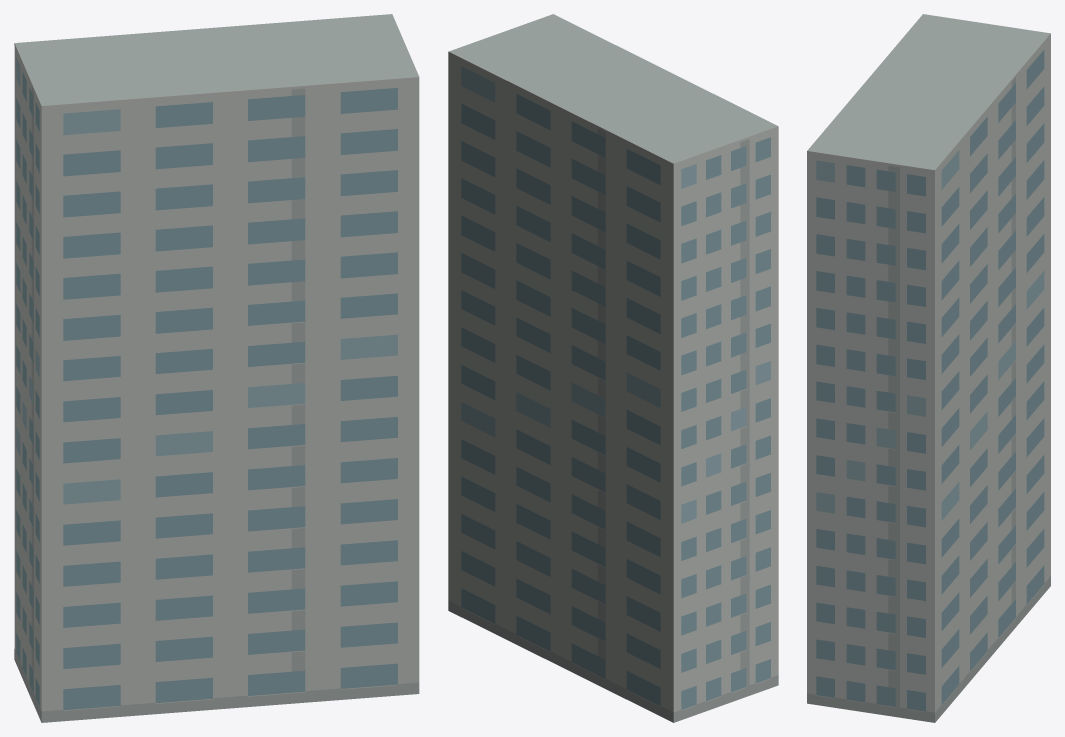
Rendered from residential-1e3e8408-948c-4c83-afea-929b69ad4b8f.glb.
The picture shows the model from 3 angles, left to right: view 1: azimuth 30°, elevation 25°; view 2: azimuth 150°, elevation 25°; view 3: azimuth 270°, elevation 25°; orthographic projection. The views are drawn at different scales.
Visible parts, largest first — view 1: residential-1e3e8408-948c-4c83-afea-929b69ad4b8f.tmp; view 2: residential-1e3e8408-948c-4c83-afea-929b69ad4b8f.tmp; view 3: residential-1e3e8408-948c-4c83-afea-929b69ad4b8f.tmp.
Boxes of the visible parts, left/top/right/bottom form: residential-1e3e8408-948c-4c83-afea-929b69ad4b8f.tmp: left=14, top=14, right=419, bottom=722; residential-1e3e8408-948c-4c83-afea-929b69ad4b8f.tmp: left=448, top=14, right=778, bottom=722; residential-1e3e8408-948c-4c83-afea-929b69ad4b8f.tmp: left=807, top=14, right=1050, bottom=722.
Bounding box in the file's own units: 35.78 × 59 × 23.6.
